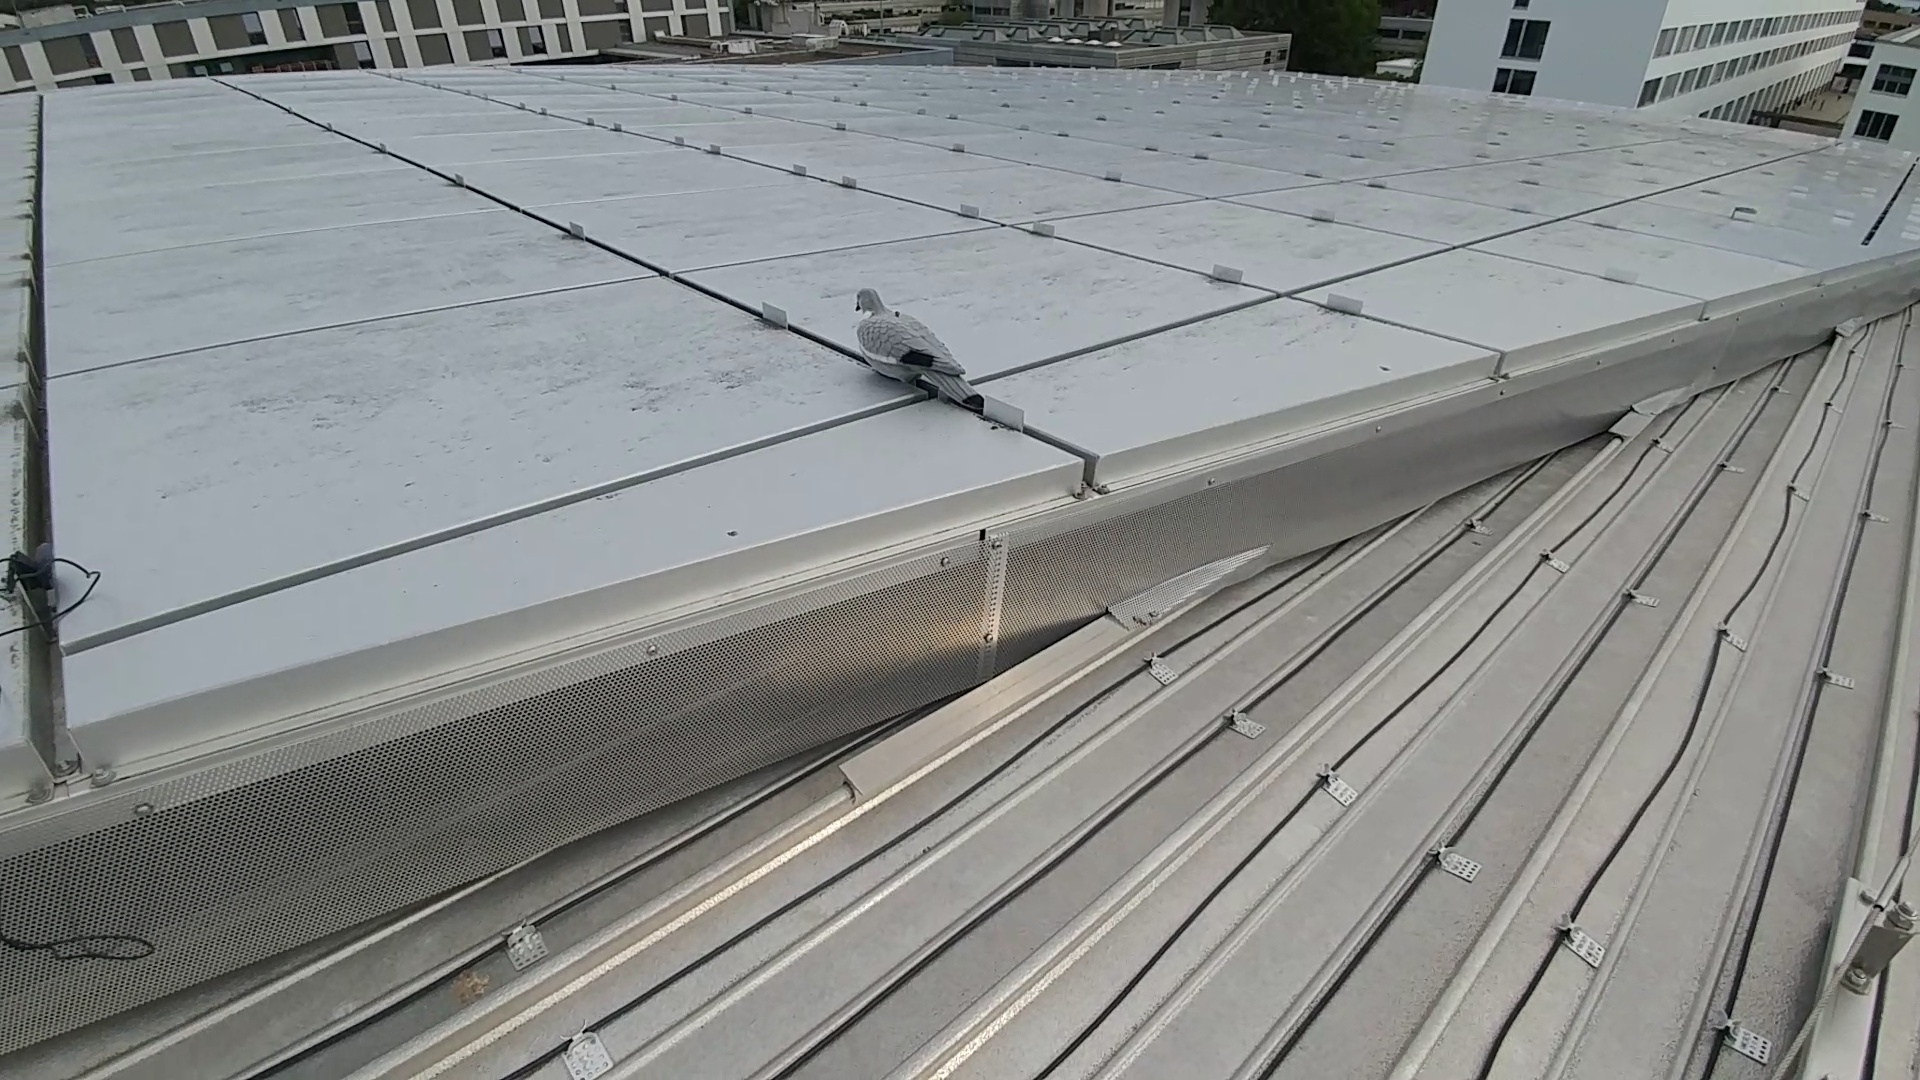Pigeon: (836, 287, 982, 407)
